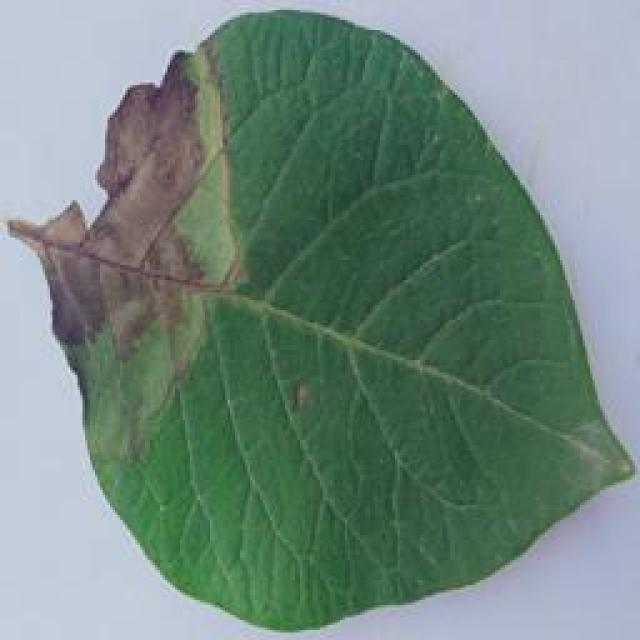Potato_Late_Blight: (0, 0, 638, 637)
